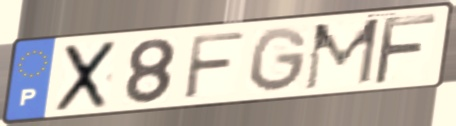8: (124, 36, 179, 105)
F: (370, 12, 440, 87), (180, 30, 248, 102)
G: (247, 25, 311, 95)
M: (301, 15, 384, 93)
X: (51, 38, 120, 115)
